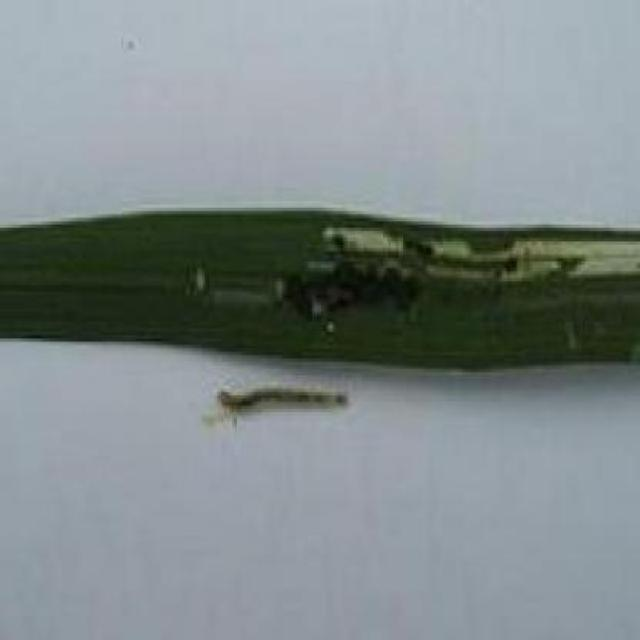leaf-folder: (194, 346, 360, 448)
